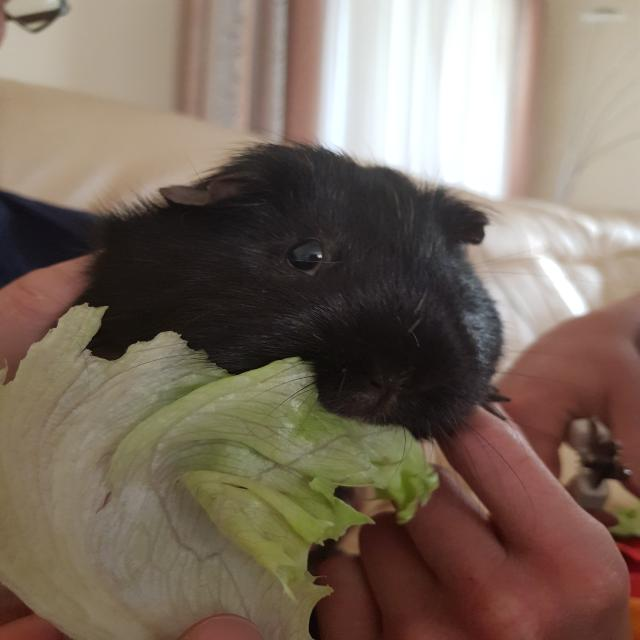guinea pig: (76, 139, 513, 444)
